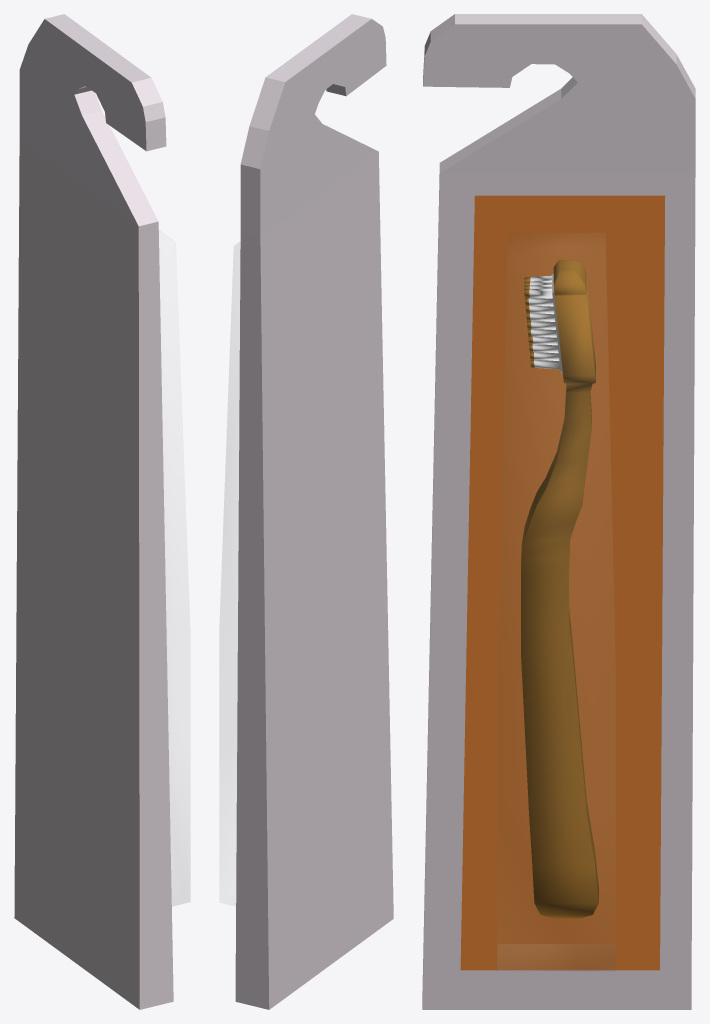
Rendered from cepilloNARANJA.fbx.
3 views of the same model, side by side, from view 1: azimuth 30°, elevation 25°; view 2: azimuth 150°, elevation 25°; view 3: azimuth 270°, elevation 25° (orthographic). The views are drawn at different scales.
Visible parts, largest first — view 1: tabla.003, envase.003; view 2: tabla.003, envase.003; view 3: tabla.003, cepillo.003, envase.003.
Part boxes in pixels (box(x1,y1,x2,y2)): tabla.003: box(14, 14, 173, 1009); envase.003: box(159, 230, 189, 905); tabla.003: box(235, 14, 393, 1009); envase.003: box(220, 242, 239, 905); tabla.003: box(422, 14, 695, 1009); cepillo.003: box(521, 260, 598, 918); envase.003: box(498, 944, 614, 970).
Bounding box in the file's own units: 16.48 × 168 × 42.38.
